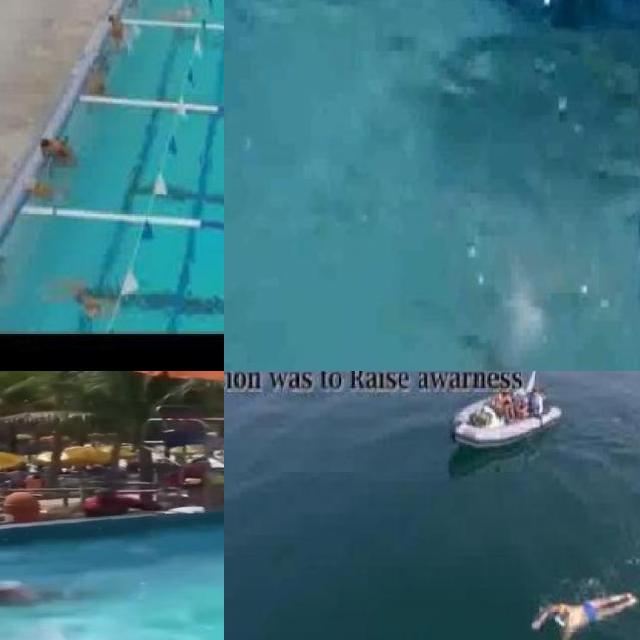drowning: (444, 282, 568, 371)
swimming: (534, 578, 634, 640), (0, 559, 69, 629), (66, 279, 109, 319), (37, 129, 77, 165), (107, 14, 133, 50), (30, 171, 56, 203), (83, 62, 107, 89)
